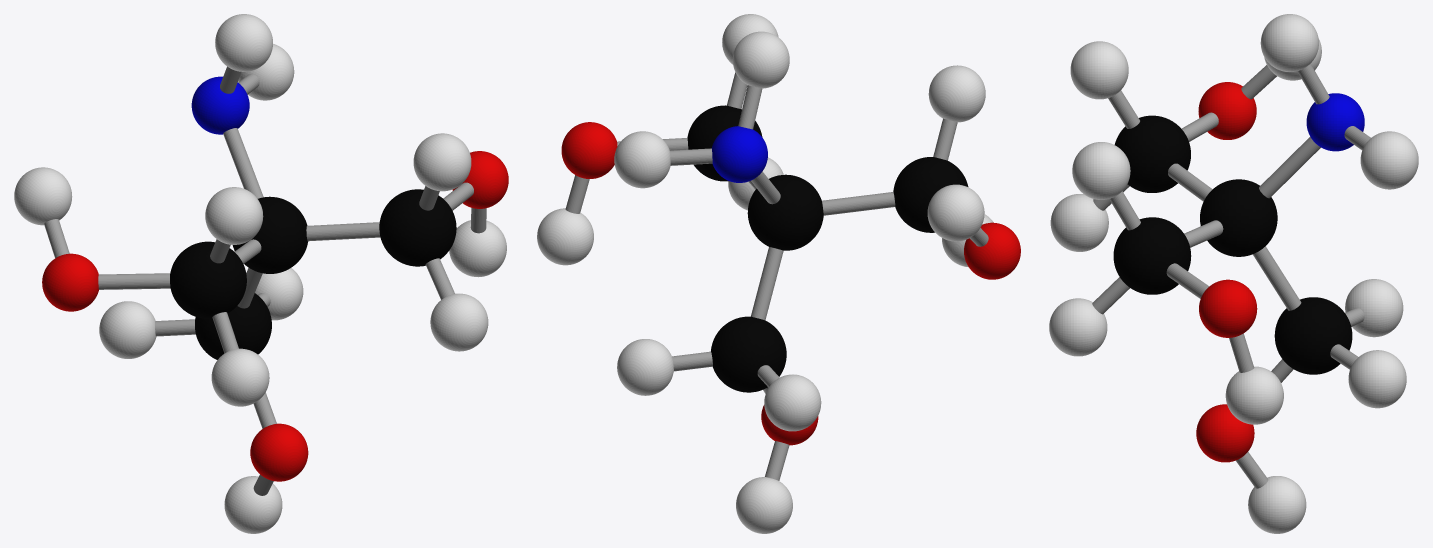
File: Tris.glb
3 views of the same model, side by side, from view 1: azimuth 30°, elevation 25°; view 2: azimuth 150°, elevation 25°; view 3: azimuth 270°, elevation 25° (orthographic). The views are drawn at different scales.
Parts seen in each view (by area): view 1: world; view 2: world; view 3: world.
Boxes of the visible parts, bbox=[...] form: world: bbox=[14, 14, 508, 533]; world: bbox=[537, 14, 1020, 533]; world: bbox=[1049, 14, 1418, 533].
Bounding box in the file's own units: 5.62 × 5.83 × 3.81.
